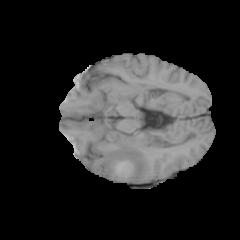glioma: (92, 139, 159, 183)
